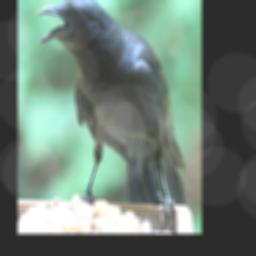Crow: (37, 0, 190, 229)
